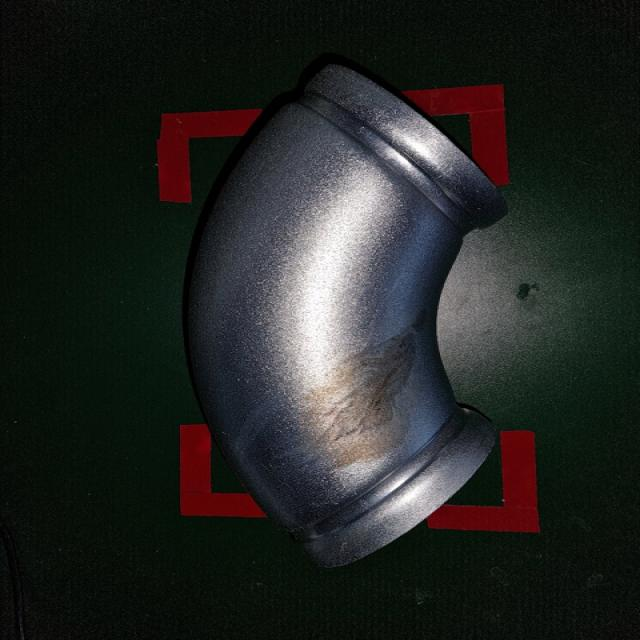Burn: (292, 326, 434, 467)
Defect: (177, 57, 513, 566)
